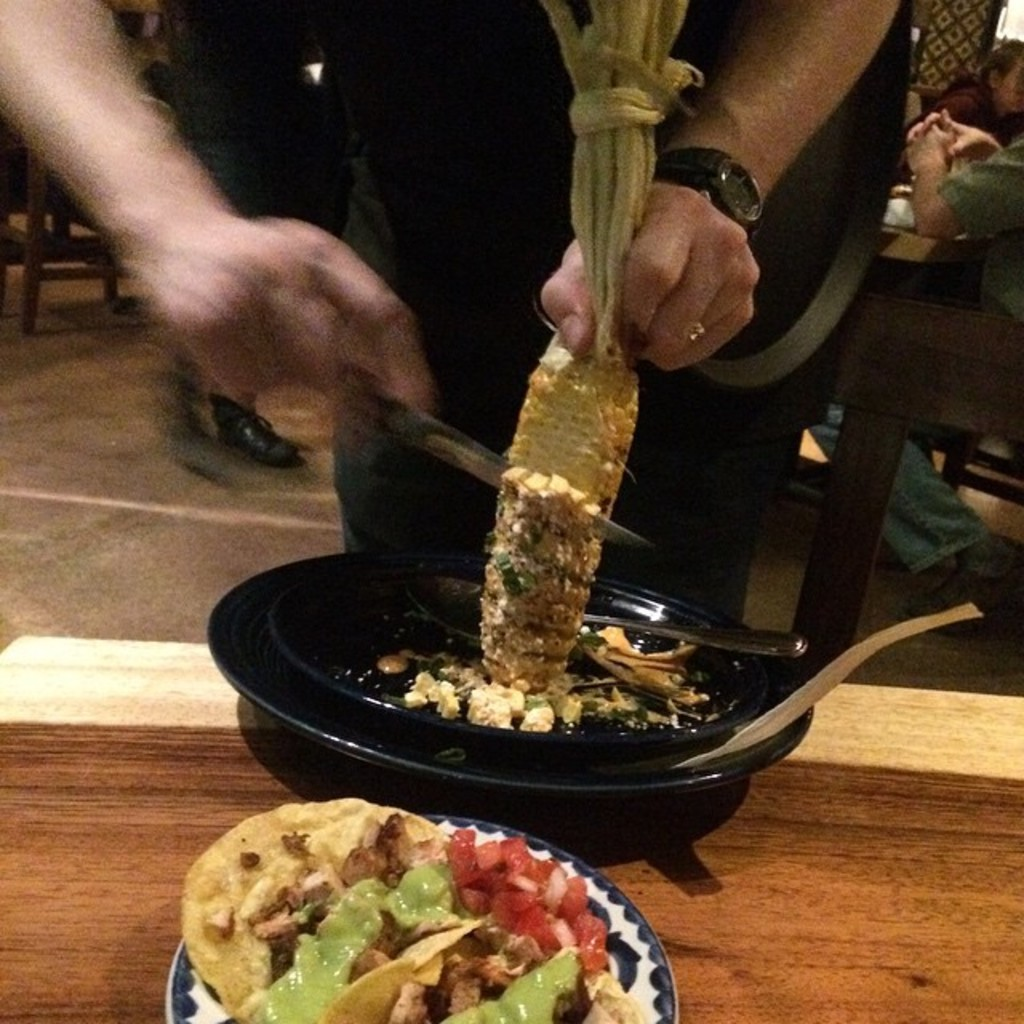taco: (174, 794, 656, 1022)
